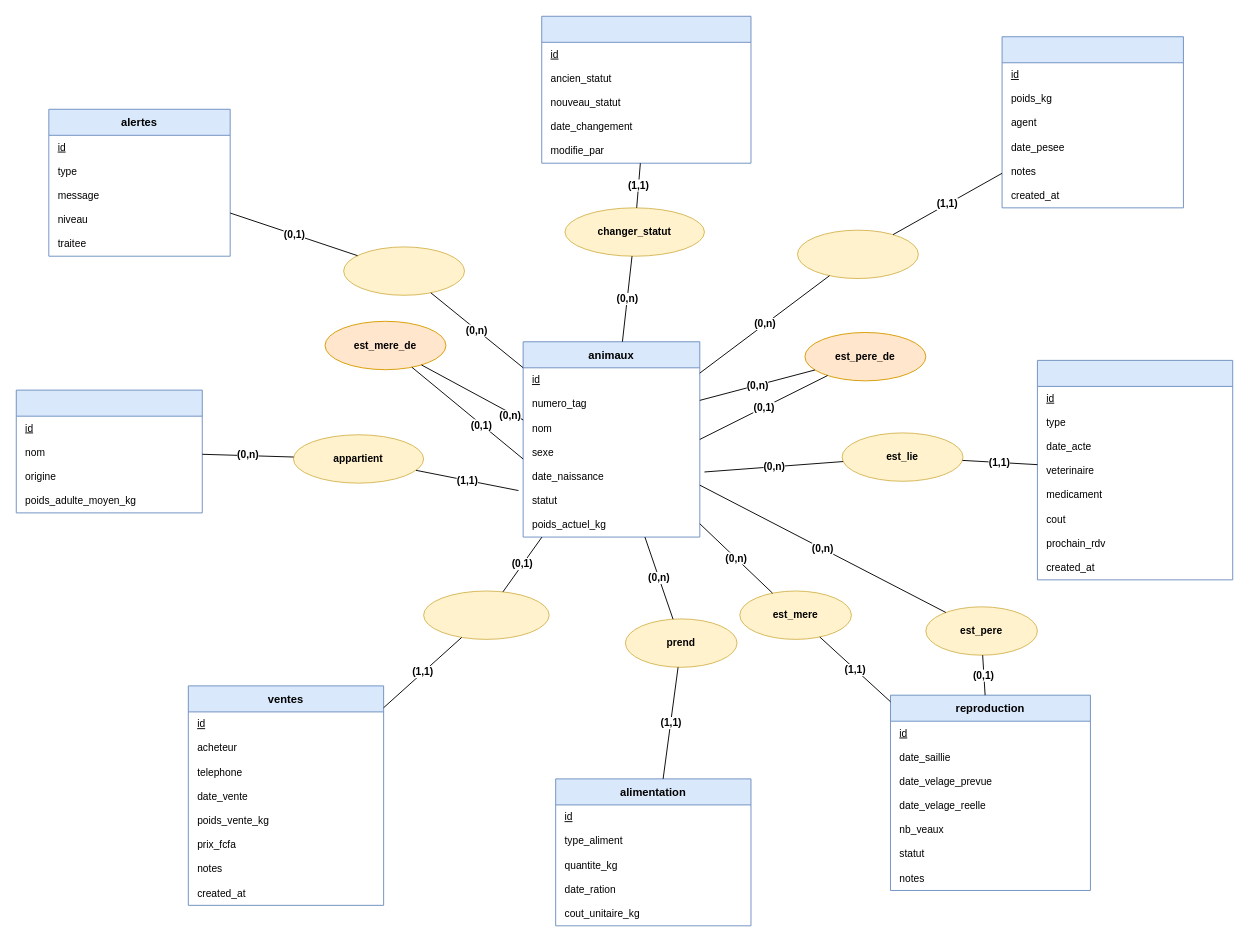
Some shapes in this 1249 by 942 pixel diagram are drawn without their labels. Each missing label, with the box of its shape:
concerne: (343, 246, 465, 295)
effectue: (797, 229, 918, 279)
fait_objet: (423, 590, 549, 639)
historique_statut: (541, 15, 751, 163)
pesees: (1001, 36, 1183, 208)
races: (15, 389, 202, 513)
sante: (1036, 359, 1233, 580)
